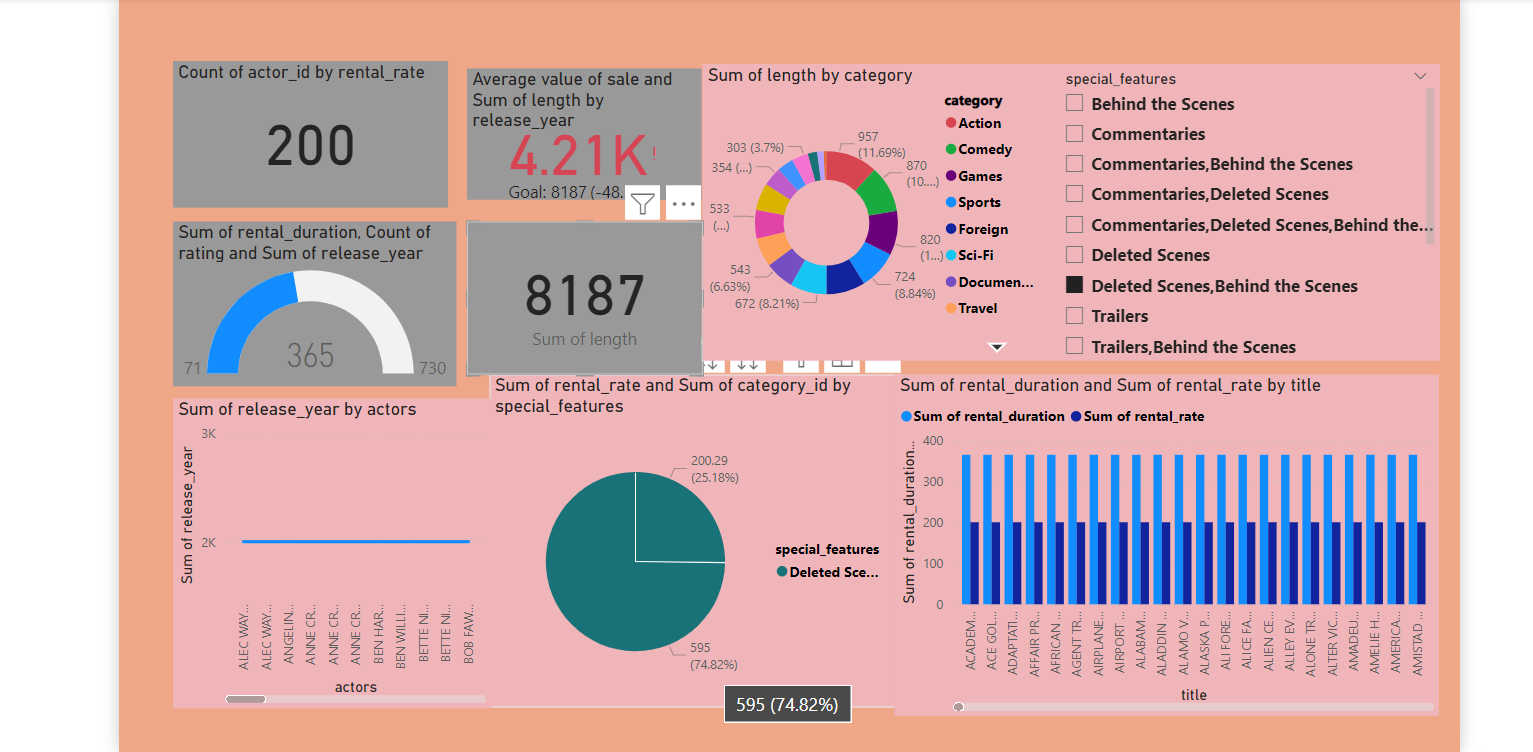

The dashboard page shown, as its layout file describes it:
{"tool":"powerbi","page":{"name":"Page 1","canvas":[1280,720],"ordinal":0},"visuals":[{"type":"card","fields":{"Values":["Sum(sakila nicer_but_slower_film_list.length)"]},"box":[332.4,213.1,224.3,146.3],"z":0},{"type":"pieChart","fields":{"Y":["Sum(sakila film.rental_rate)","Sum(sakila film_category.category_id)"],"Category":["sakila film.special_features","sakila film_actor.actor_id","sakila film_category.film_id"]},"box":[354,360,394,318],"z":1000},{"type":"clusteredColumnChart","fields":{"Category":["sakila film_text.title"],"Y":["Sum(sakila film.rental_duration)","Sum(sakila film.rental_rate)"]},"box":[741.2,359.5,520.1,326.1],"z":2000},{"type":"lineChart","fields":{"Category":["sakila film_list.actors"],"Y":["Sum(sakila film.release_year)"]},"box":[50.9,381.7,303.8,295.9],"z":3000},{"type":"donutChart","fields":{"Y":["Sum(sakila nicer_but_slower_film_list.length)"],"Category":["sakila nicer_but_slower_film_list.category"]},"box":[556.7,63.6,334,283.1],"z":4000},{"type":"kpi","fields":{"Goal":["Sum(sakila film.length)"],"TrendLine":["sakila film.release_year"],"Indicator":["sakila actor.Average value of sale"]},"box":[332.4,66.8,224.3,125.7],"z":5000},{"type":"kpi","fields":{"Indicator":["CountNonNull(sakila actor_info.actor_id)"],"TrendLine":["sakila film.rental_rate"]},"box":[50.9,60.4,262.5,140],"z":6000},{"type":"slicer","fields":{"Values":["sakila film.special_features"]},"box":[890.7,63.6,370.6,283.1],"z":7000},{"type":"gauge","fields":{"Y":["Sum(sakila film.rental_duration)"],"TargetValue":["Sum(sakila film.release_year)"],"MinValue":["CountNonNull(sakila film.rating)"]},"box":[50.9,213.1,270.4,157.5],"z":8000}]}

Visuals, with their boxes on the page's 1280x720 design canvas (x1, y1, x2, y2). These are canvas units, not pixel positions in the 1533x752 screenshot, which may show the page scaled, cropped or inside an application window:
card - Sum(sakila nicer_but_slower_film_list.length): Rect(332, 213, 557, 359)
pieChart - Sum(sakila film.rental_rate) x Sum(sakila film_category.category_id): Rect(354, 360, 748, 678)
clusteredColumnChart - sakila film_text.title x Sum(sakila film.rental_duration): Rect(741, 360, 1261, 686)
lineChart - sakila film_list.actors x Sum(sakila film.release_year): Rect(51, 382, 355, 678)
donutChart - Sum(sakila nicer_but_slower_film_list.length) x sakila nicer_but_slower_film_list.category: Rect(557, 64, 891, 347)
kpi - Sum(sakila film.length) x sakila film.release_year: Rect(332, 67, 557, 192)
kpi - CountNonNull(sakila actor_info.actor_id) x sakila film.rental_rate: Rect(51, 60, 313, 200)
slicer - sakila film.special_features: Rect(891, 64, 1261, 347)
gauge - Sum(sakila film.rental_duration) x Sum(sakila film.release_year): Rect(51, 213, 321, 371)
